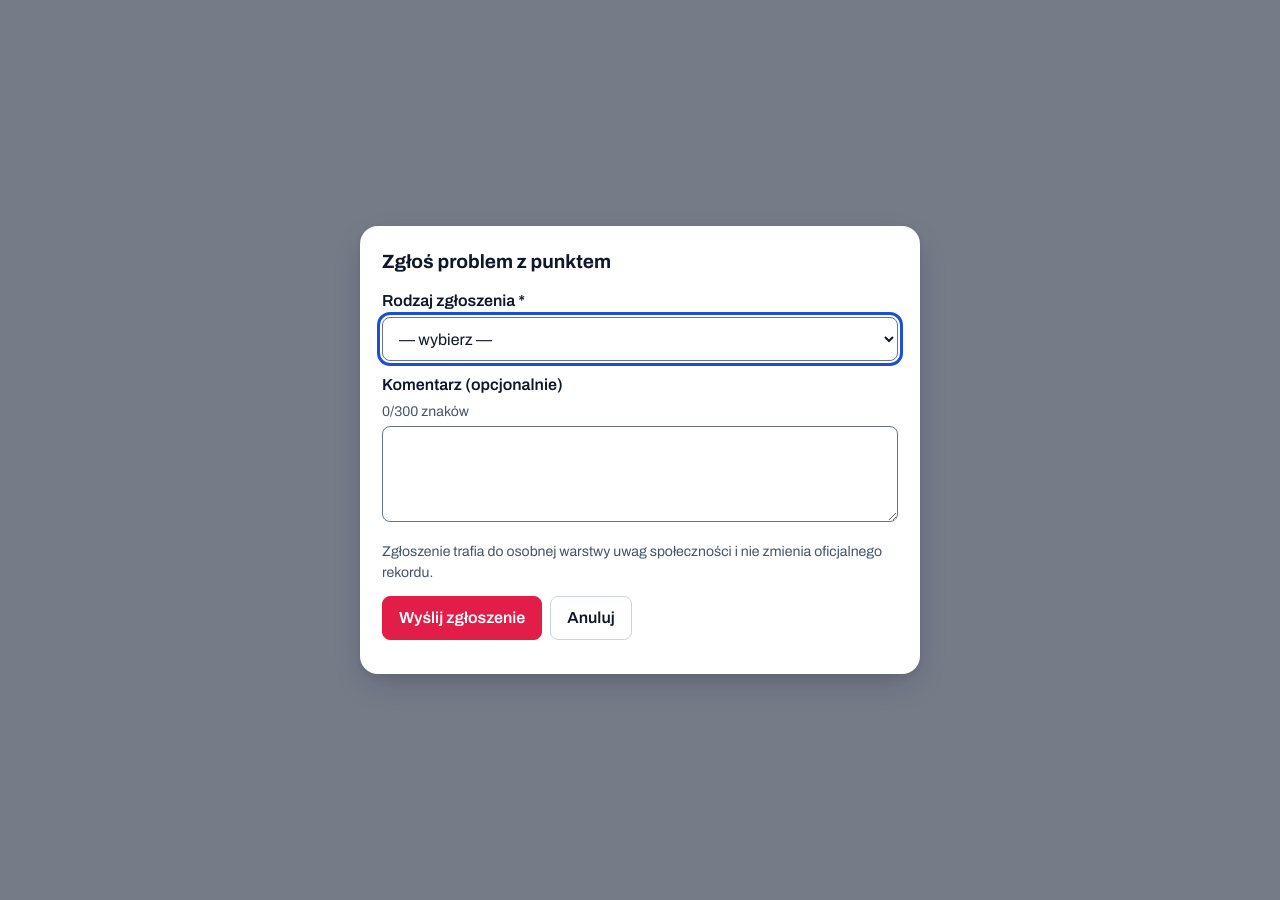
Test: ReportDialog › wymaga typu, wysyła zgłoszenie i potwierdza, że nie zmienia oficjalnych danych; 429 daje komunikat
This screenshot has width=1280, height=900.
Click the button "Wyślij zgłoszenie".
click(462, 618)  # box [382, 596, 542, 640]
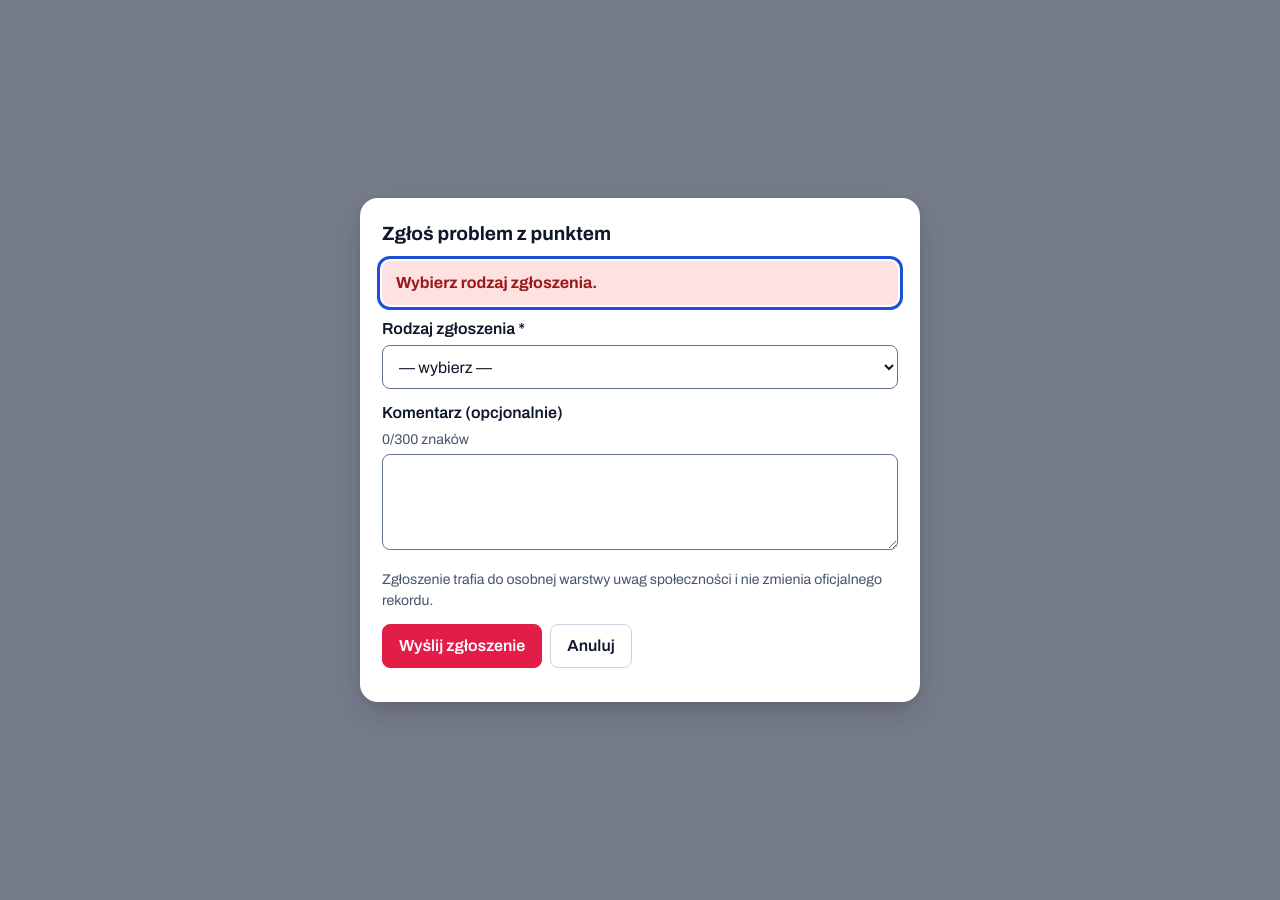
Result: the text "Wybierz rodzaj zgłoszenia." is shown at [396, 274, 597, 291]
Select "Urządzenie uszkodzone" in the dropdown labelled "Rodzaj zgłoszenia *" at (640, 367), box [382, 345, 898, 389]
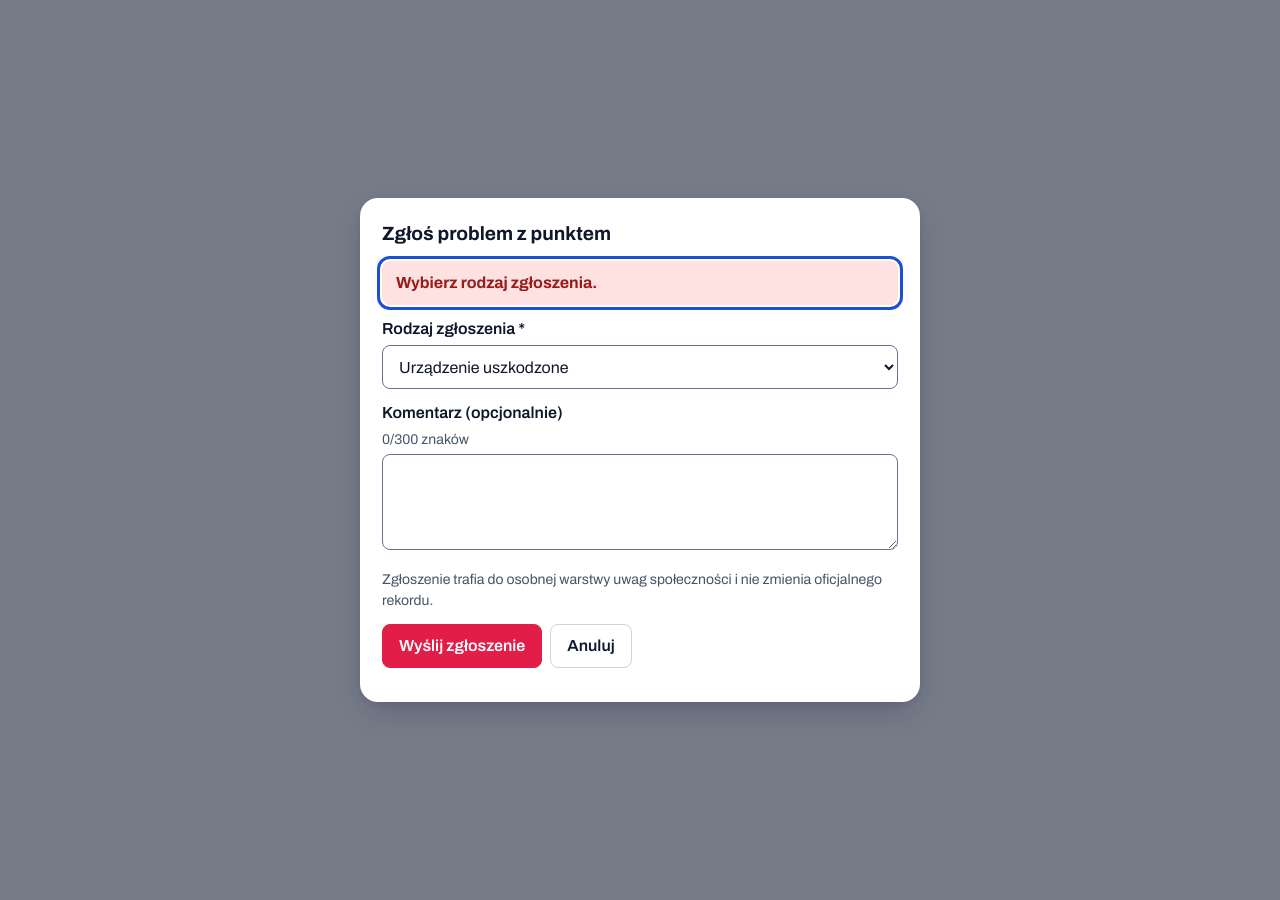
Click the button "Wyślij zgłoszenie".
click(462, 646)  # box [382, 624, 542, 668]
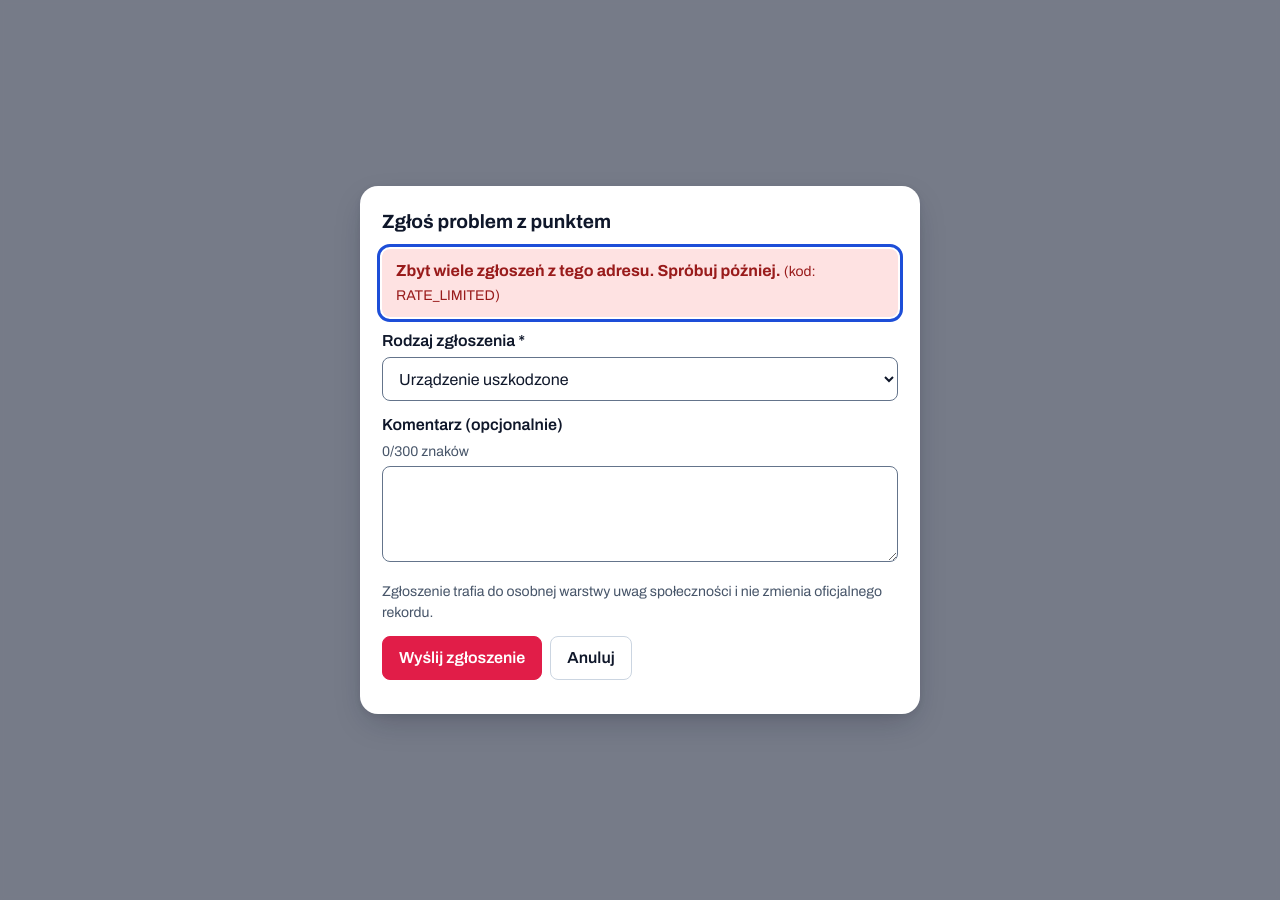
Result: the text "Zbyt wiele zgłoszeń z tego adresu. Spróbuj później." is shown at [396, 262, 781, 279]
Click the button "Wyślij zgłoszenie".
click(462, 658)  # box [382, 636, 542, 680]
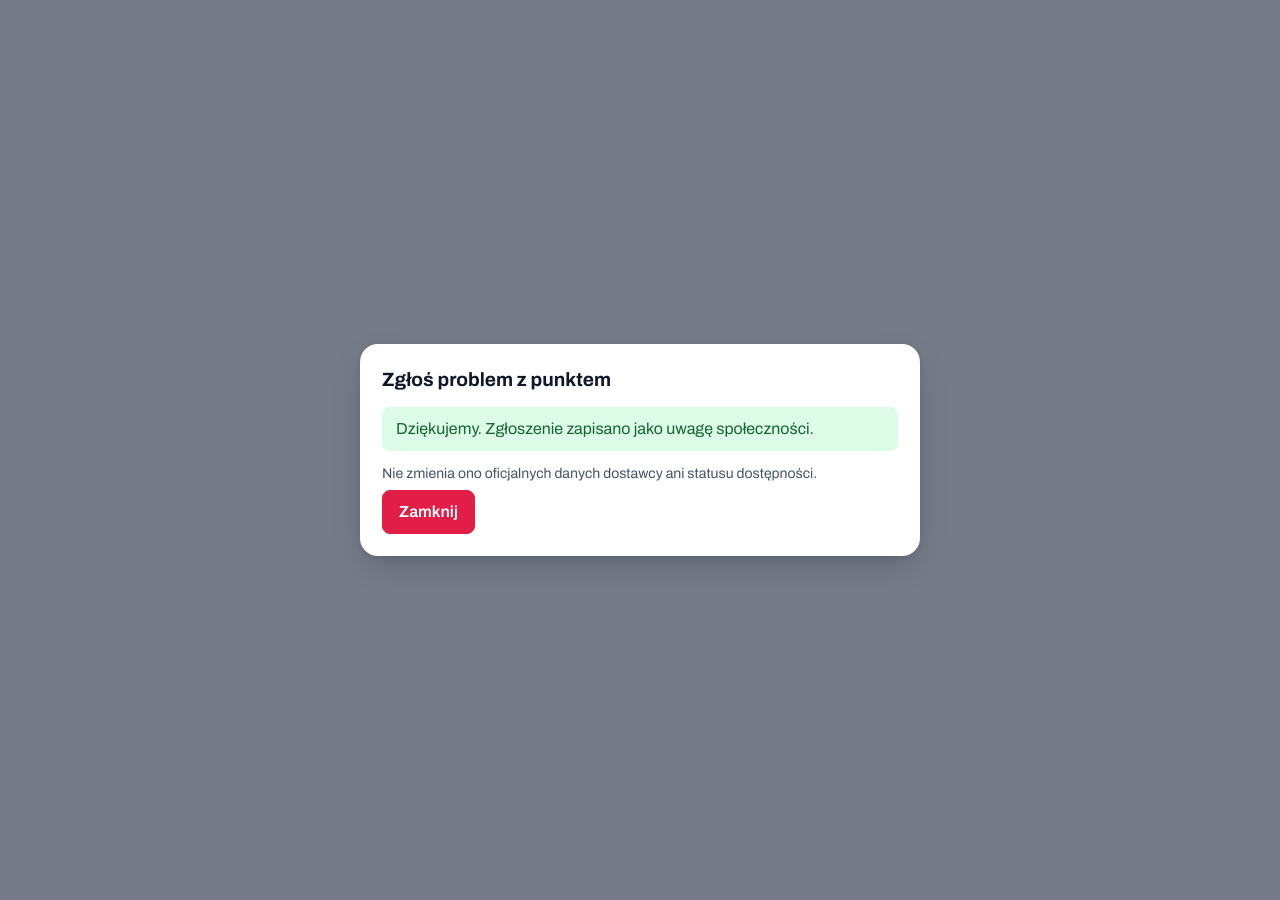
Result: the text "Dziękujemy. Zgłoszenie zapisano jako uwagę społeczności." is shown at [382, 407, 898, 451]
